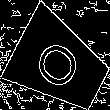O_SE: (30, 33, 89, 95)
